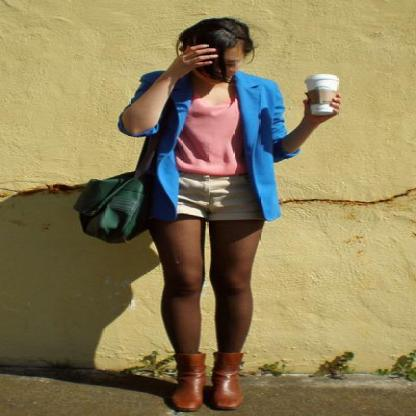bag: (74, 175, 158, 243)
jacket: (121, 71, 298, 220)
shirt: (174, 96, 252, 181)
shoe: (169, 347, 255, 415)
shorts: (176, 168, 262, 220)
